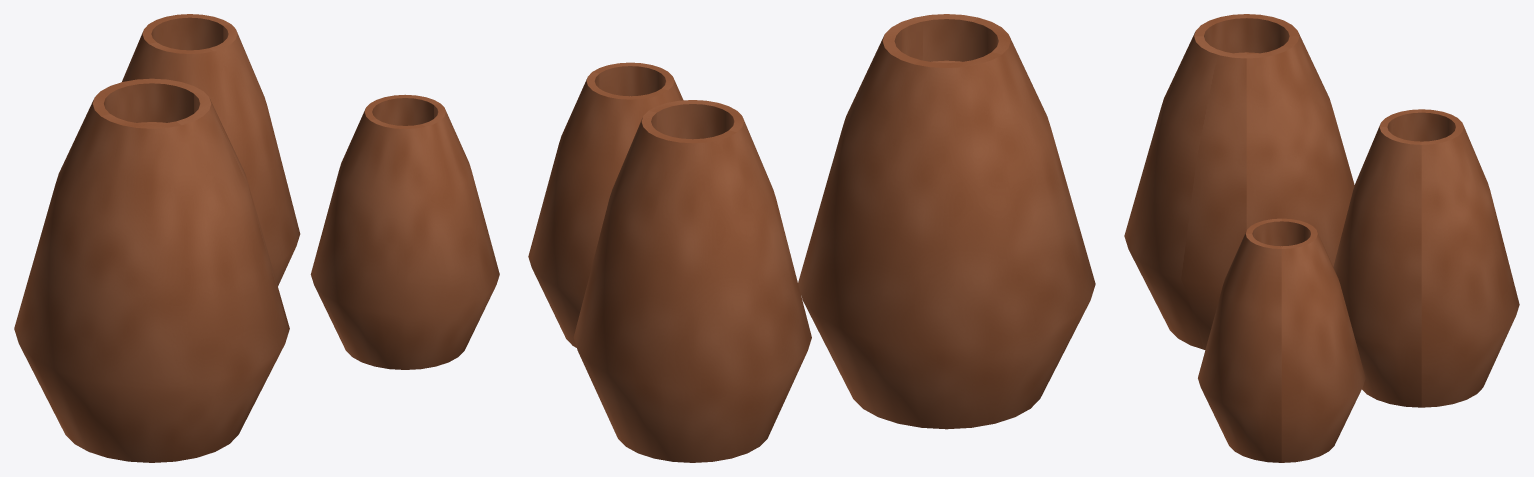
Rendered from Pottery_Jars.fbx.
3 views of the same model, side by side, from view 1: azimuth 30°, elevation 25°; view 2: azimuth 150°, elevation 25°; view 3: azimuth 270°, elevation 25° (orthographic). The views are drawn at different scales.
Visible parts, largest first — view 1: Pottery_Jars.001; view 2: Pottery_Jars.001; view 3: Pottery_Jars.001.
Boxes of the visible parts, x1,y1,x2,y2 form: Pottery_Jars.001: (14, 14, 499, 462); Pottery_Jars.001: (528, 14, 1095, 462); Pottery_Jars.001: (1124, 14, 1519, 462).
Size of the model in its own units: 139 by 90 by 113.
1 material, 1 textured.
